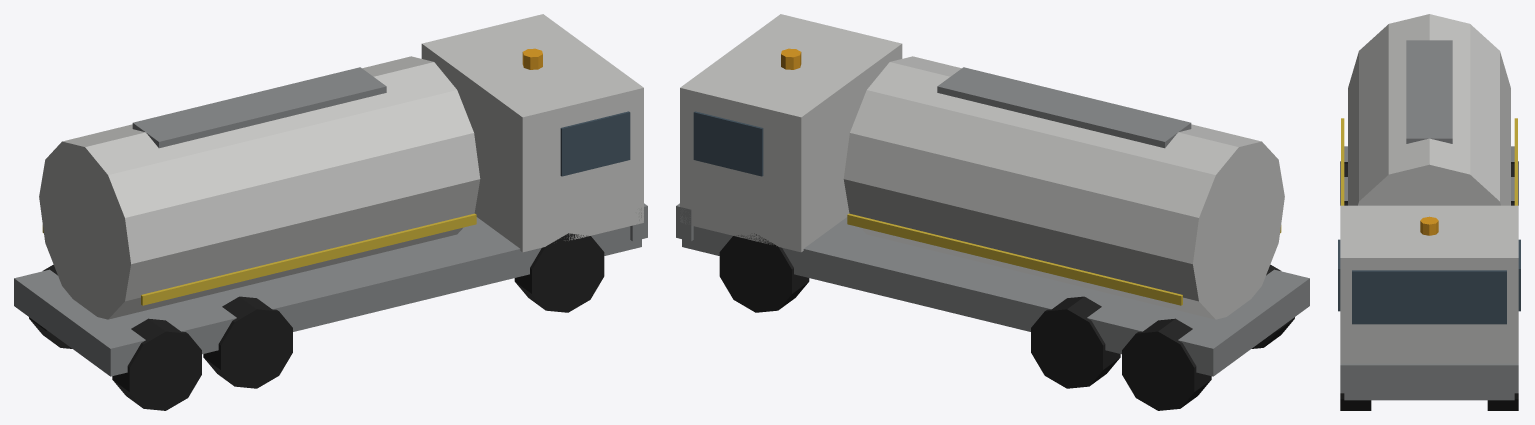
Rendered from hangar_camion_piste.glb.
3 renders of one model, left to right at view 1: azimuth 30°, elevation 25°; view 2: azimuth 150°, elevation 25°; view 3: azimuth 270°, elevation 25°, orthographic. The views are drawn at different scales.
Parts seen in each view (by area): view 1: hangar_camion_piste; view 2: hangar_camion_piste; view 3: hangar_camion_piste.
Boxes of the visible parts, left/top/right/bottom form: hangar_camion_piste: left=14, top=14, right=647, bottom=410; hangar_camion_piste: left=676, top=14, right=1309, bottom=410; hangar_camion_piste: left=1338, top=14, right=1520, bottom=410.
Bounding box in the file's own units: 7.05 × 2.95 × 2.36.
